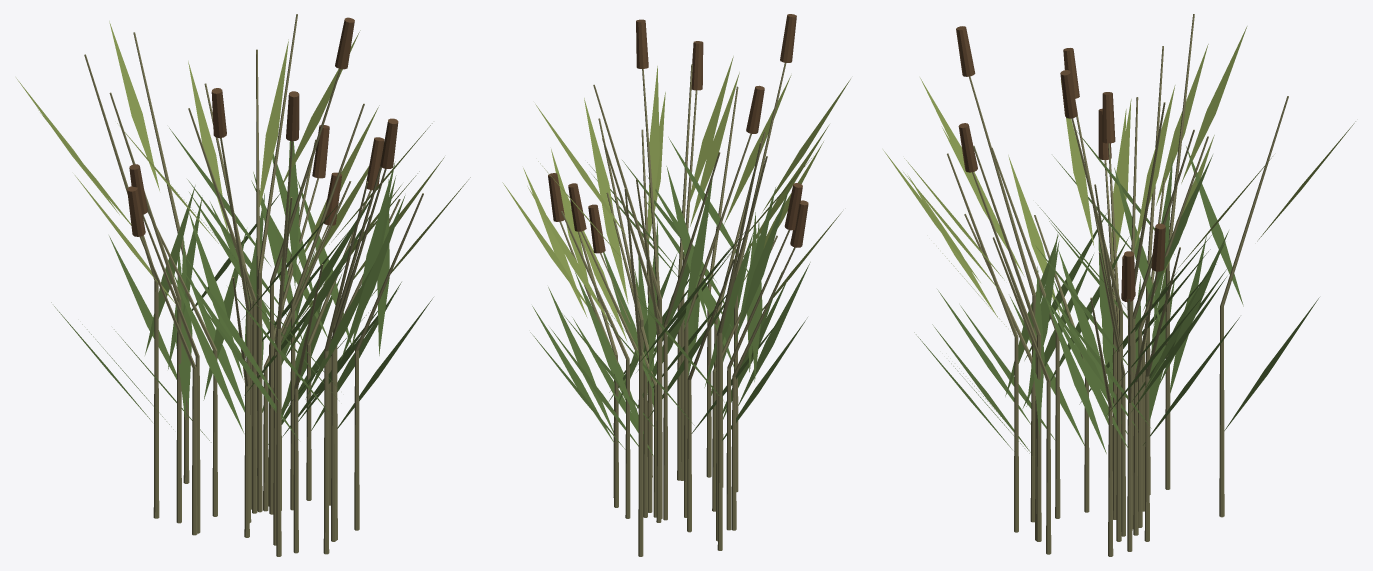
File: reeds.meshopt.glb
3 renders of one model, left to right at view 1: azimuth 30°, elevation 25°; view 2: azimuth 150°, elevation 25°; view 3: azimuth 270°, elevation 25°, orthographic. The views are drawn at different scales.
Visible parts, largest first — view 1: reeds; view 2: reeds; view 3: reeds.
Boxes of the visible parts, x1=… form: reeds: x1=16, y1=14, x2=470, y2=556; reeds: x1=502, y1=14, x2=850, y2=556; reeds: x1=883, y1=14, x2=1355, y2=556.
Size of the model in its own units: 1.87 by 2.47 by 2.21.
